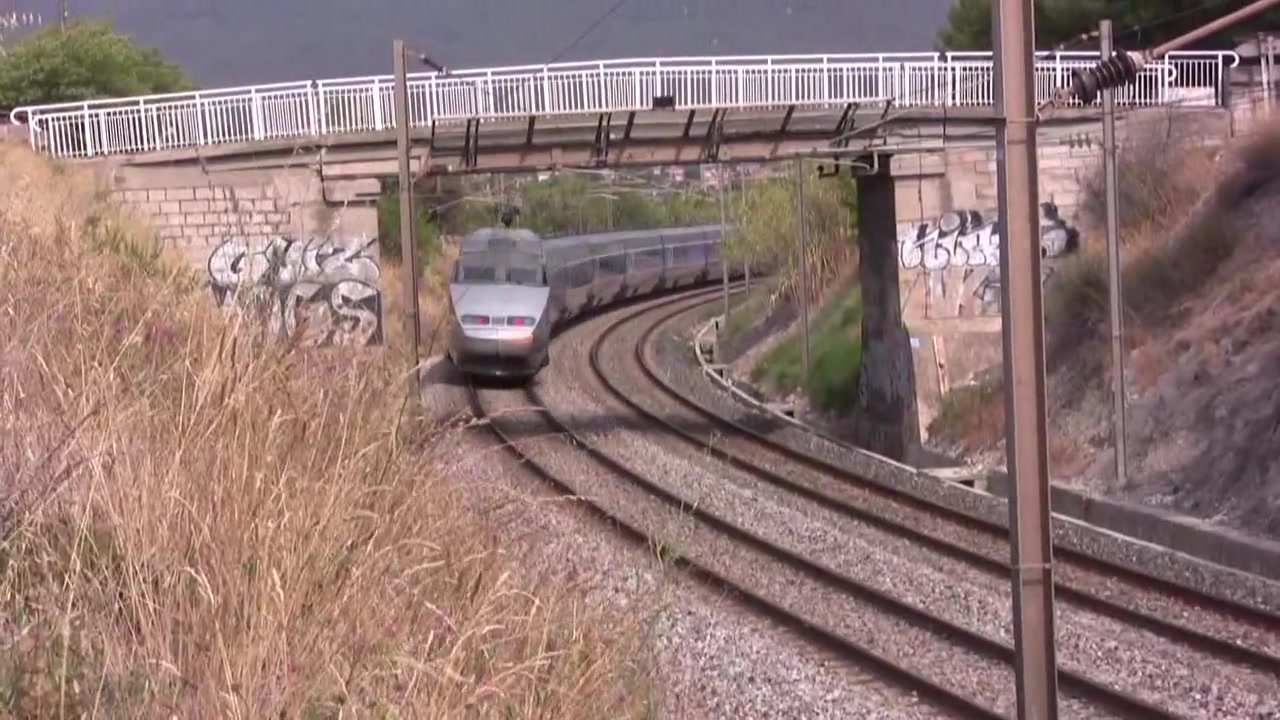train: (442, 228, 738, 390)
